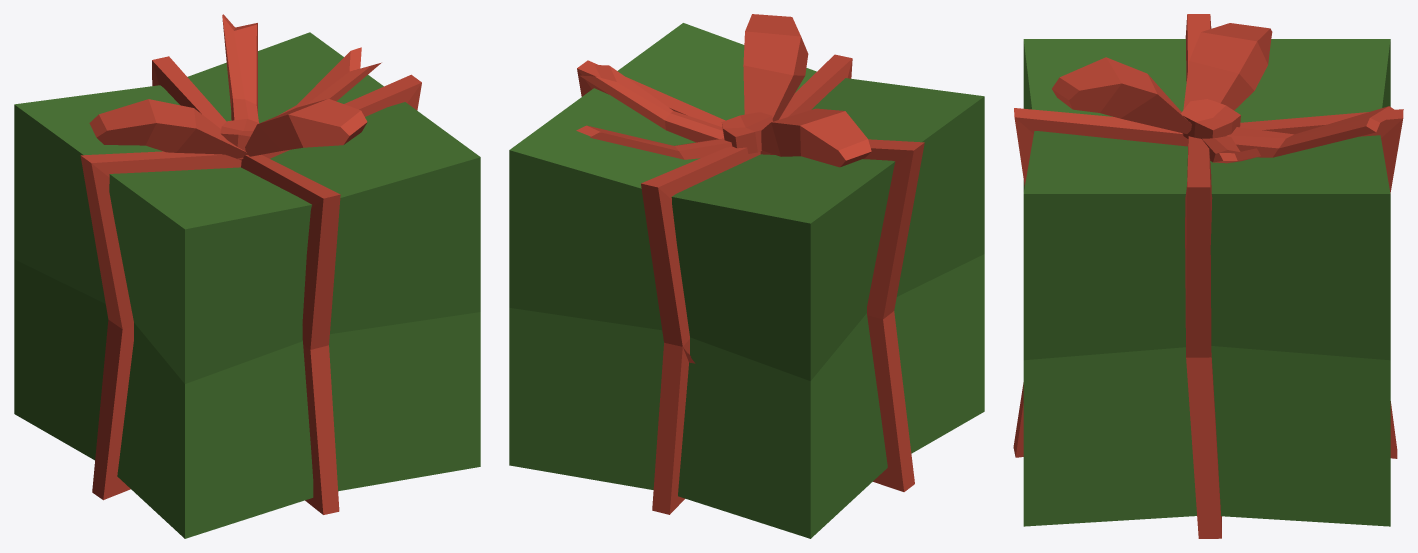
File: kingitus2.fbx
3 views of the same model, side by side, from view 1: azimuth 30°, elevation 25°; view 2: azimuth 150°, elevation 25°; view 3: azimuth 270°, elevation 25° (orthographic). The views are drawn at different scales.
Visible parts, largest first — view 1: Cube.001; view 2: Cube.001; view 3: Cube.001.
Part boxes in pixels (x1,y1,x2,y2): Cube.001: (14,14,480,538); Cube.001: (509,14,984,538); Cube.001: (1013,14,1403,538).
Size of the model in its own units: 143 by 156 by 136.
